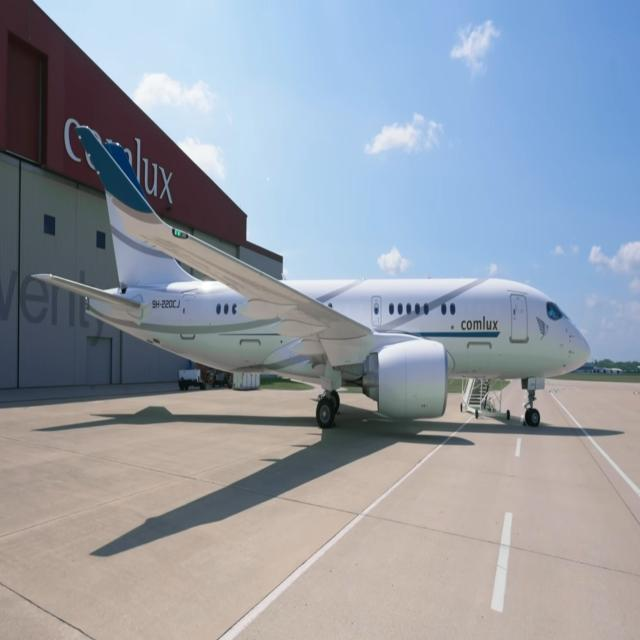aircraft: (25, 77, 608, 474)
